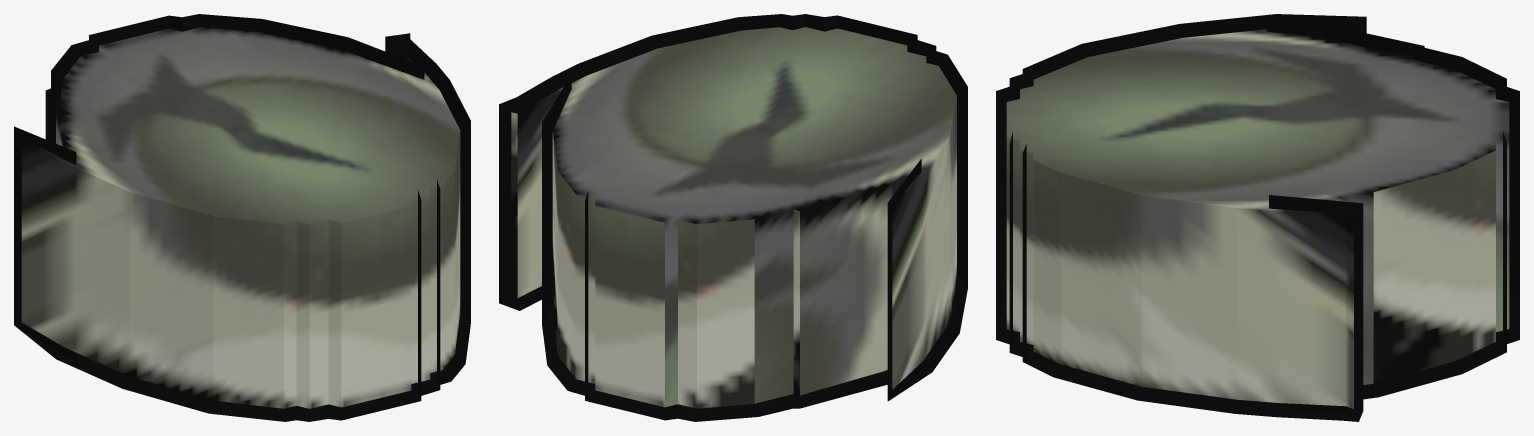
The model's file is Building_AncientMechDropBeacon_Things_Building_Ruins_DestroyedMechDropBeacon_DestroyedMechDropBeaconA.glb.
3 renders of one model, left to right at view 1: azimuth 30°, elevation 25°; view 2: azimuth 150°, elevation 25°; view 3: azimuth 270°, elevation 25°, orthographic. The views are drawn at different scales.
Visible parts, largest first — view 1: Body, Outline; view 2: Body, Outline; view 3: Body, Outline.
Part boxes in pixels (x1=…): Body: x1=21, y1=27, x2=460, y2=408; Outline: x1=14, y1=14, x2=470, y2=421; Body: x1=511, y1=27, x2=956, y2=408; Outline: x1=499, y1=14, x2=967, y2=421; Body: x1=1006, y1=25, x2=1509, y2=409; Outline: x1=996, y1=14, x2=1519, y2=421.
Bounding box in the file's own units: 0.9683 × 0.4958 × 1.08.
2 materials, 1 textured.
